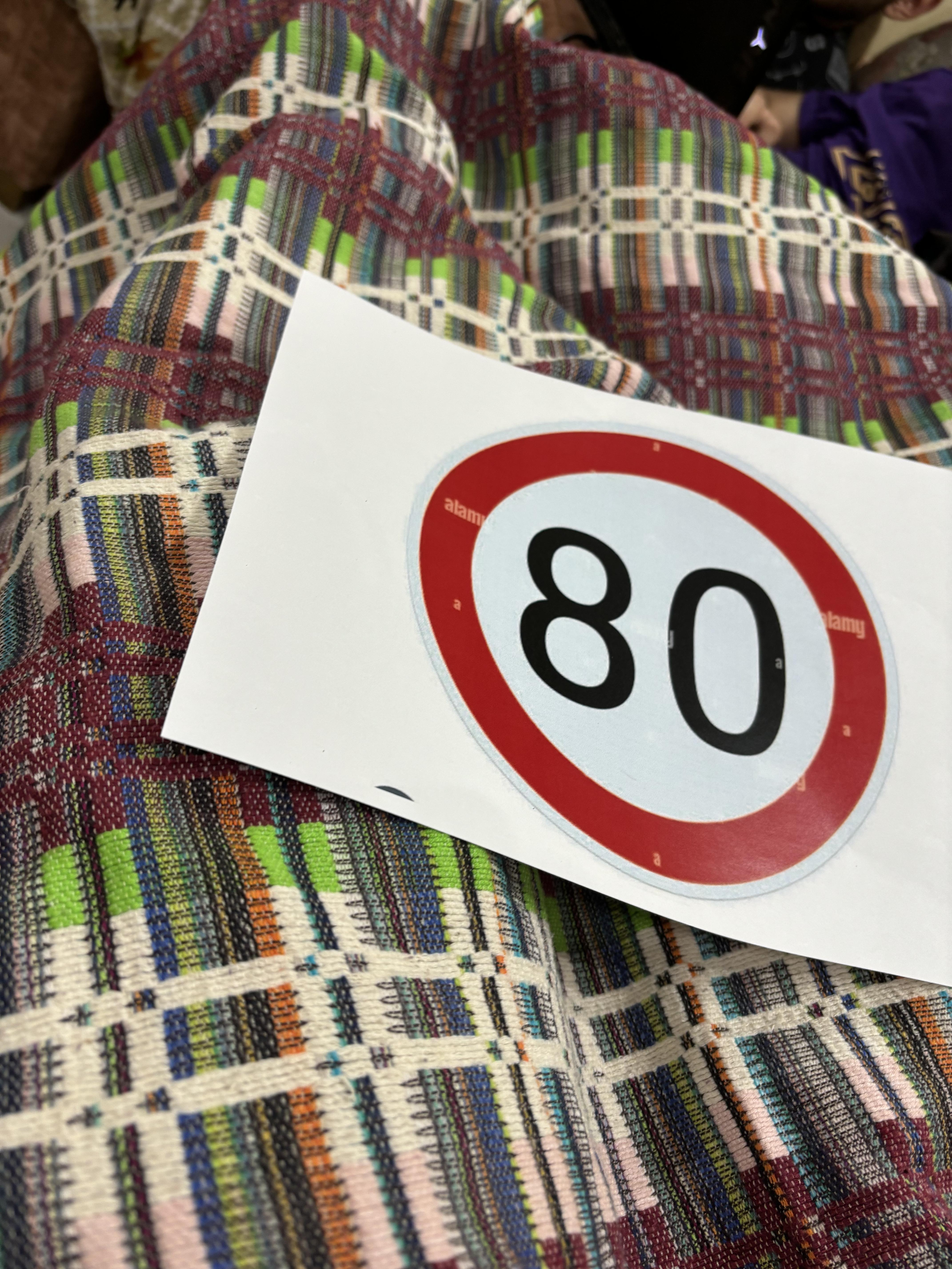80-Speed: (398, 405, 907, 899)
